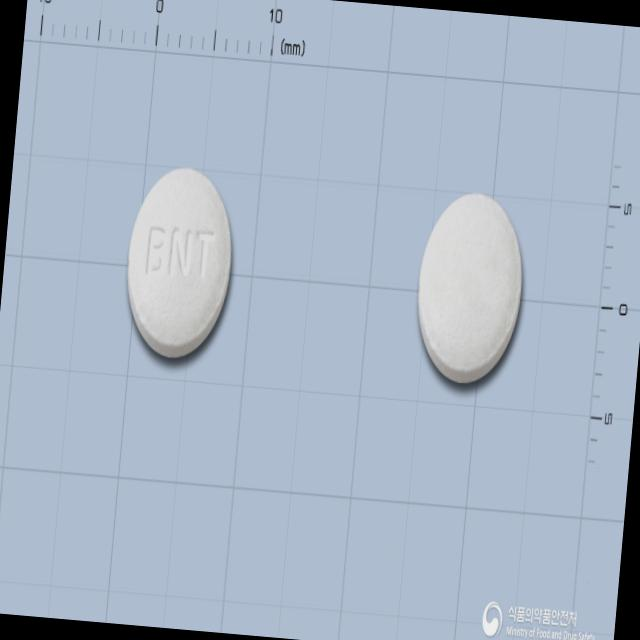Banan: (116, 158, 244, 370)
